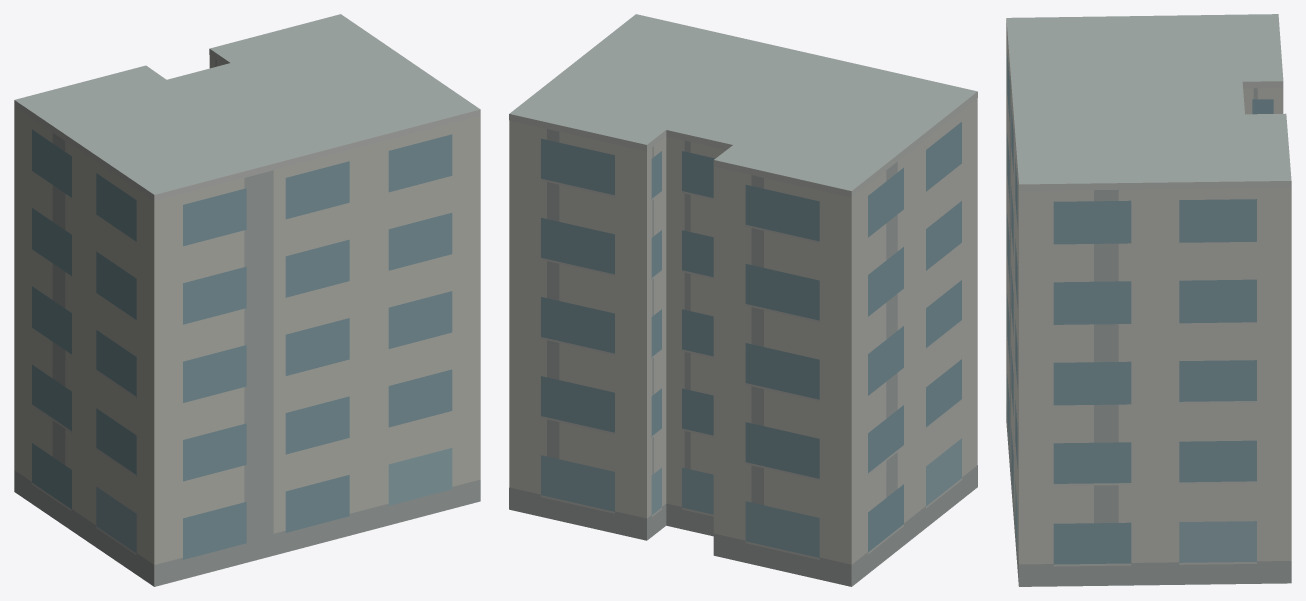
The model's file is survey-upis-32805699.glb.
The picture shows the model from 3 angles, left to right: view 1: azimuth 30°, elevation 25°; view 2: azimuth 150°, elevation 25°; view 3: azimuth 270°, elevation 25°; orthographic projection. The views are drawn at different scales.
Parts seen in each view (by area): view 1: survey-upis-32805699.tmp; view 2: survey-upis-32805699.tmp; view 3: survey-upis-32805699.tmp.
Part boxes in pixels (left/top/right/bottom): survey-upis-32805699.tmp: left=14, top=14, right=480, bottom=586; survey-upis-32805699.tmp: left=509, top=14, right=977, bottom=586; survey-upis-32805699.tmp: left=1006, top=14, right=1291, bottom=586.
Bounding box in the file's own units: 13.31 × 14.65 × 9.42.
